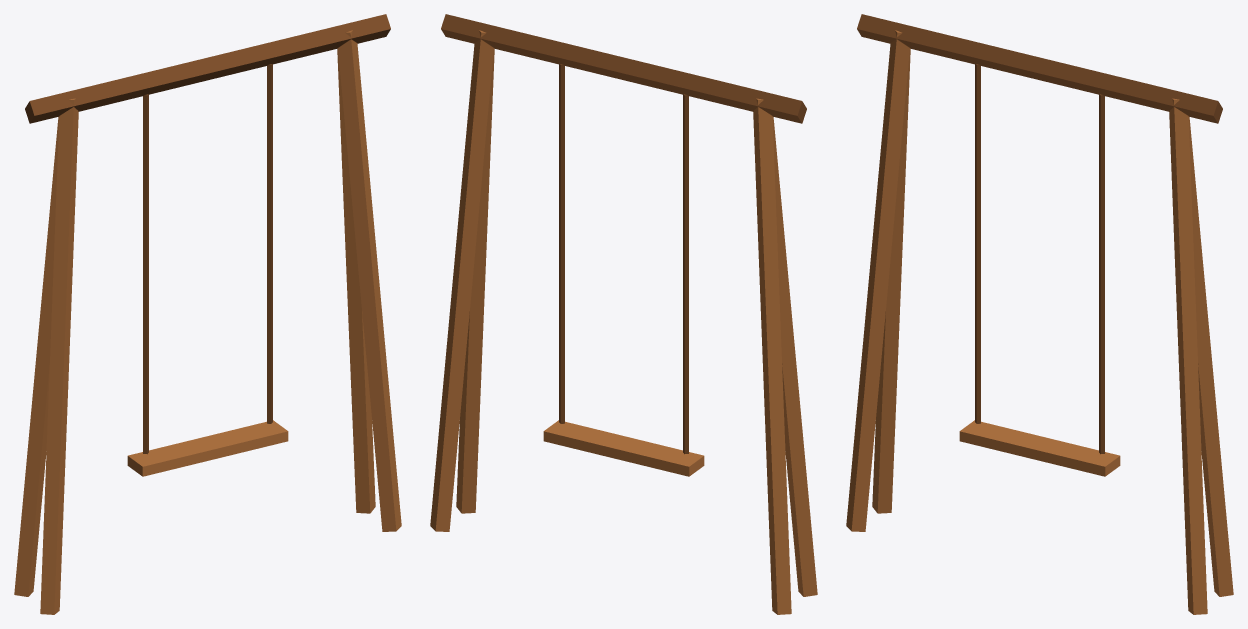
The model's file is rope_swing_frame.fbx.
3 renders of one model, left to right at view 1: azimuth 30°, elevation 25°; view 2: azimuth 150°, elevation 25°; view 3: azimuth 330°, elevation 25°, orthographic.
Parts seen in each view (by area): view 1: rope_swing_frame; view 2: rope_swing_frame; view 3: rope_swing_frame.
Boxes of the visible parts, x1,y1,x2,y2 form: rope_swing_frame: (14,14,401,614); rope_swing_frame: (430,14,817,614); rope_swing_frame: (846,14,1233,614).
Bounding box in the file's own units: 3 × 4 × 0.5.
